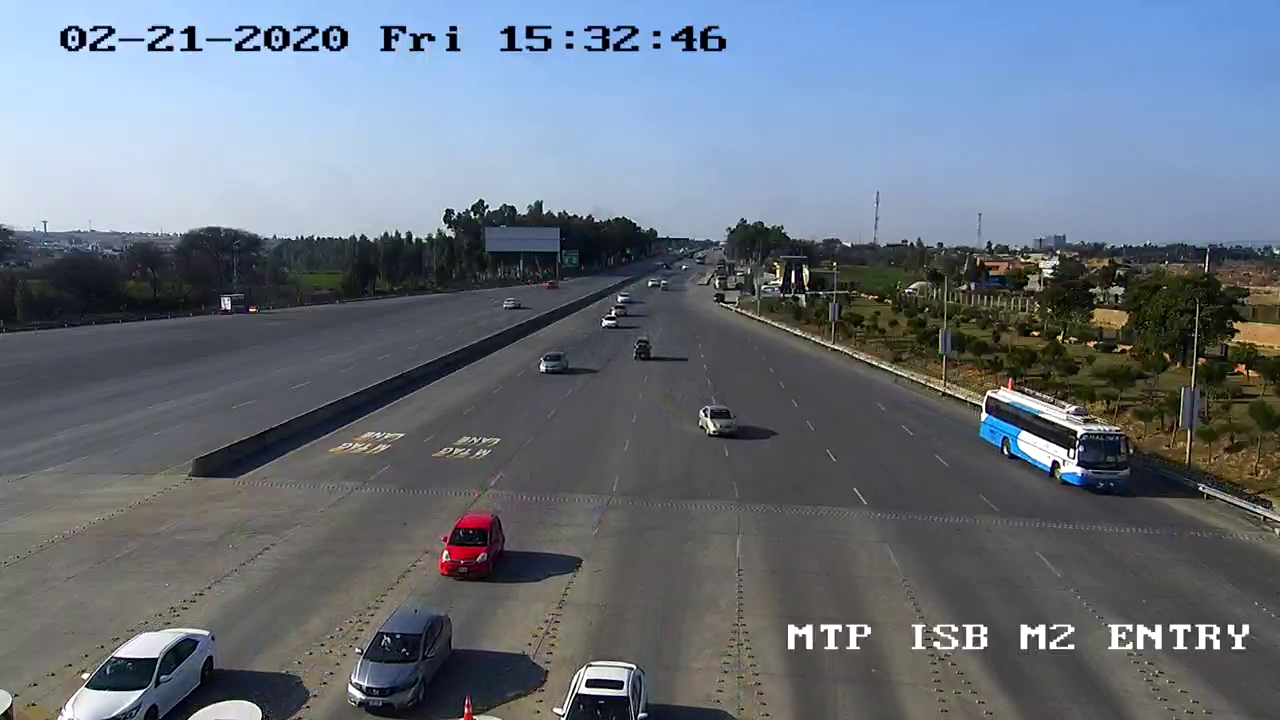f1: (329, 592, 469, 720), (426, 495, 515, 586), (692, 397, 749, 443)
f4: (973, 385, 1146, 512)
